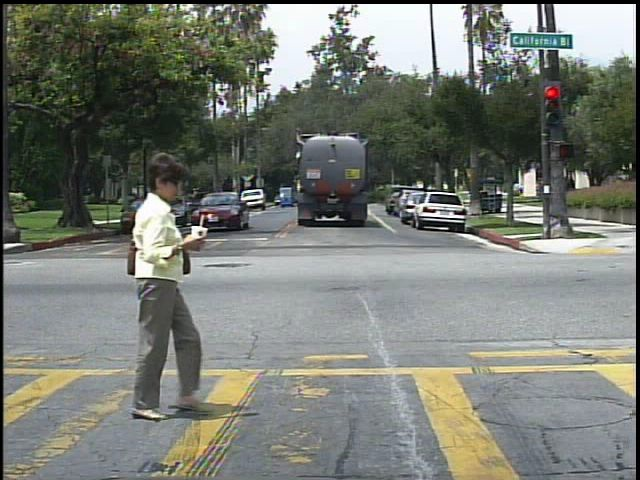person: (104, 150, 224, 423), (564, 172, 582, 205), (516, 181, 529, 200)
